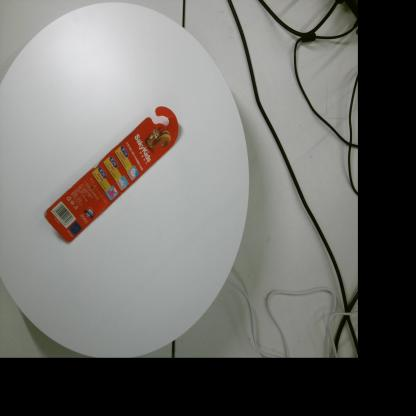Personal Hygiene: (43, 106, 179, 243)
